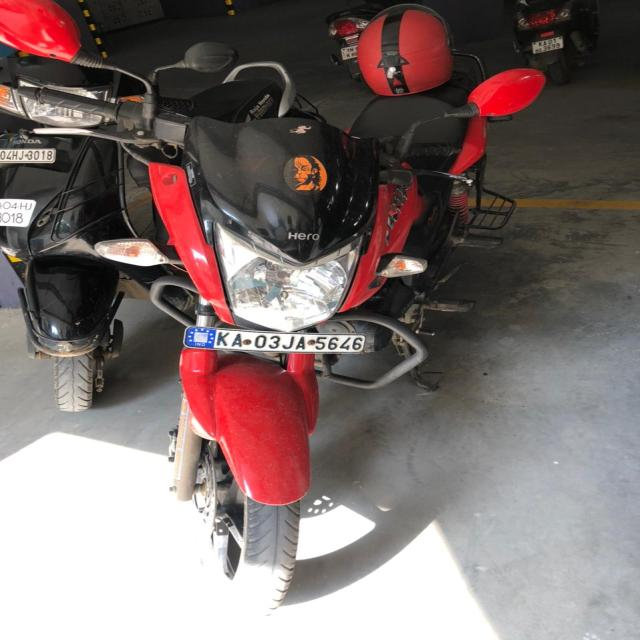license_plate: (182, 325, 366, 354), (0, 148, 56, 164)
